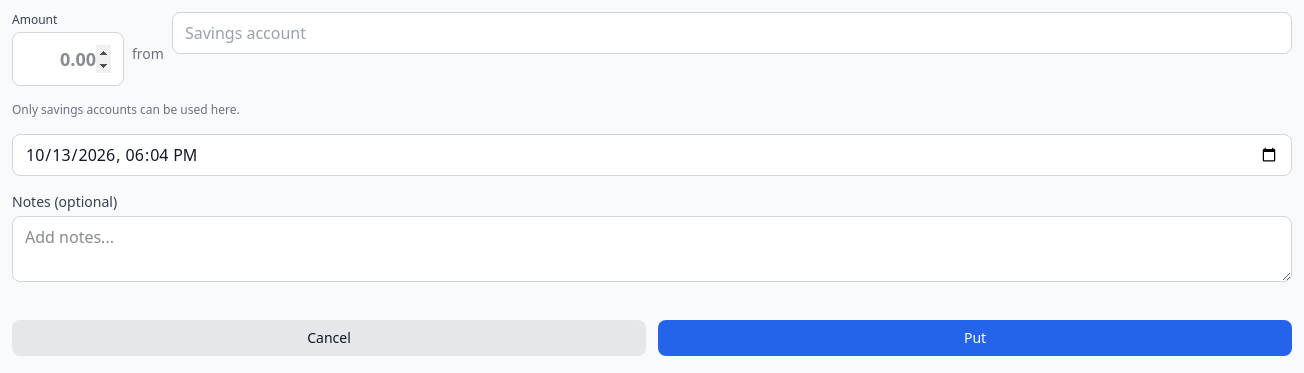
Test case: GoalPutTakeForm › rejects submission when the goal has no linked accounts to put/take against
Type "50" into the number field with id "amount" at coordinates (68, 59), box 12,32 -> 124,86
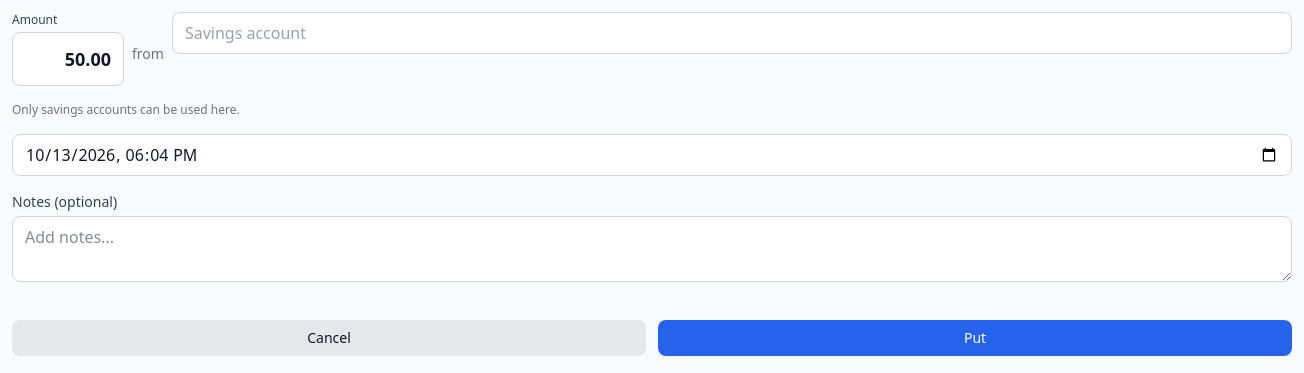
Click the button "Put" at coordinates (975, 338), box 658,320 -> 1292,356
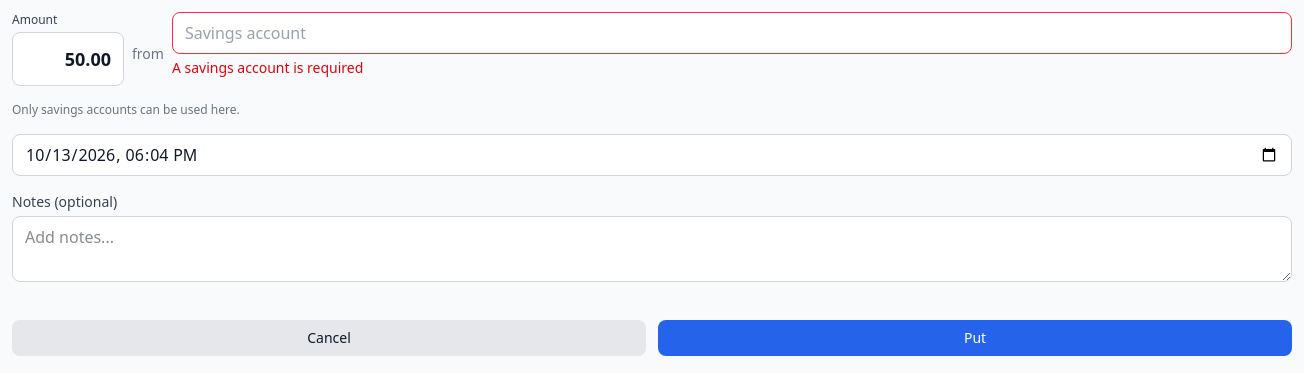
Now the text "A savings account is required" is shown, box 172,58 -> 363,77
